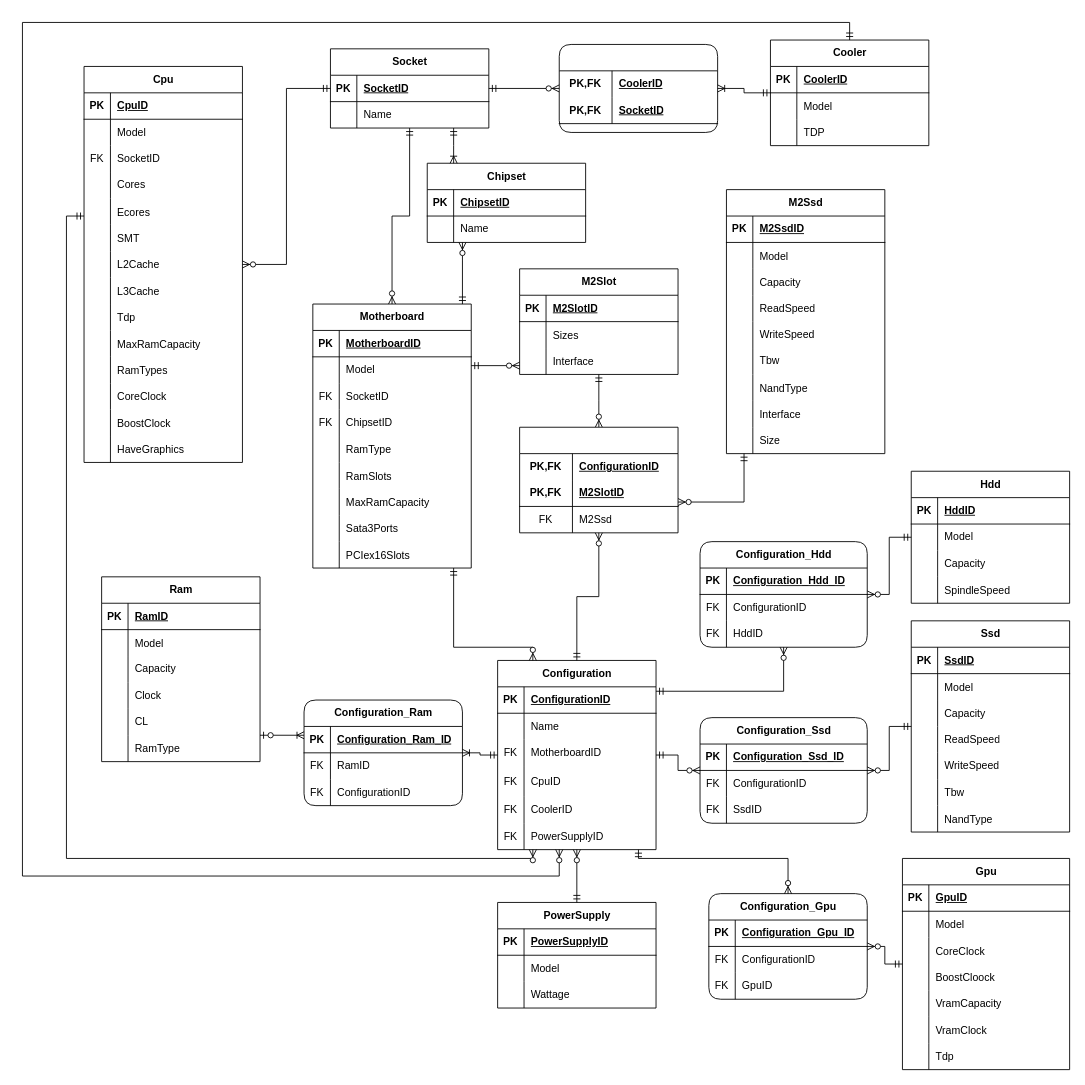
This 1085x1085 diagram has some shape labels left out. Here are the shapes that lost their labels. From the top down, the box of each, then its label:
(558, 44, 718, 132): Cooler_Socket
(519, 426, 678, 533): Configuration_M2Ssd
